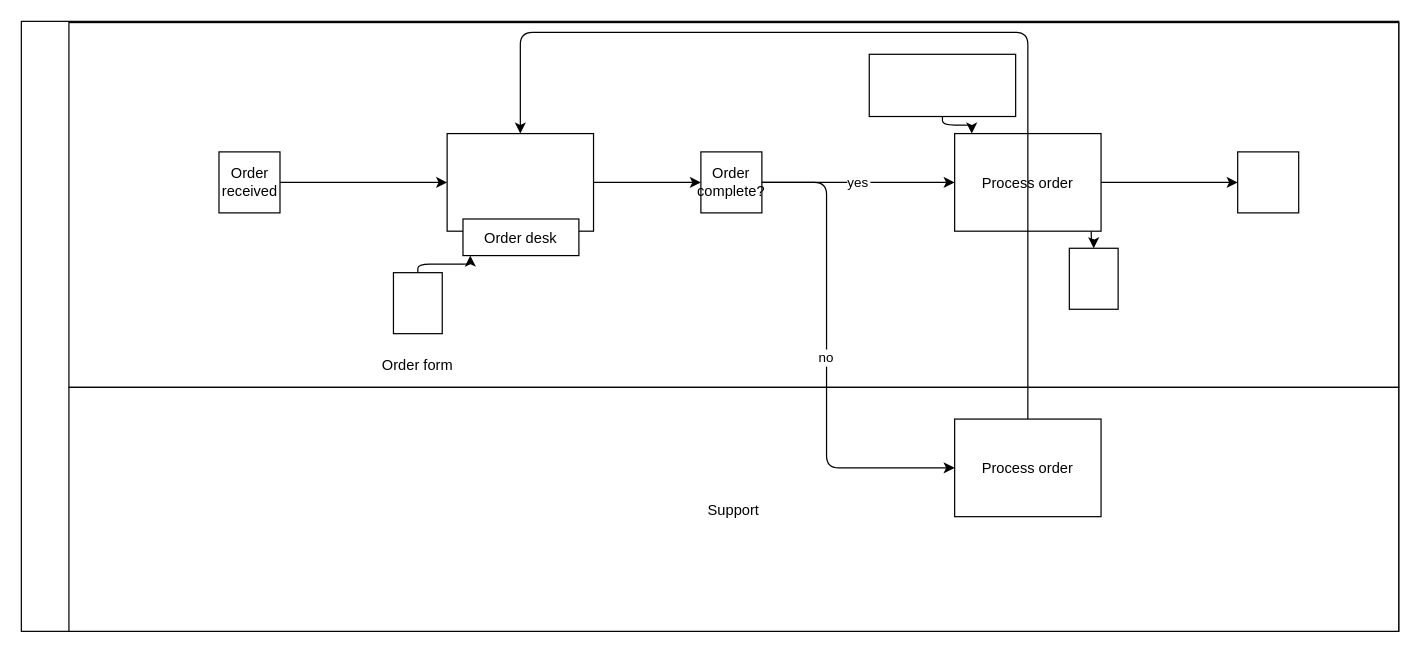
Image size: 1420x653. Some labels were removed from this diagram. The shapes that lost their labels are listed below. From the top down, each one's centre as x and y in pixels, then its label:
the point at 942,85: Shipping policy
the point at 520,181: Check order
the point at 1267,182: Order shipped
the point at 1093,278: Shipping note
